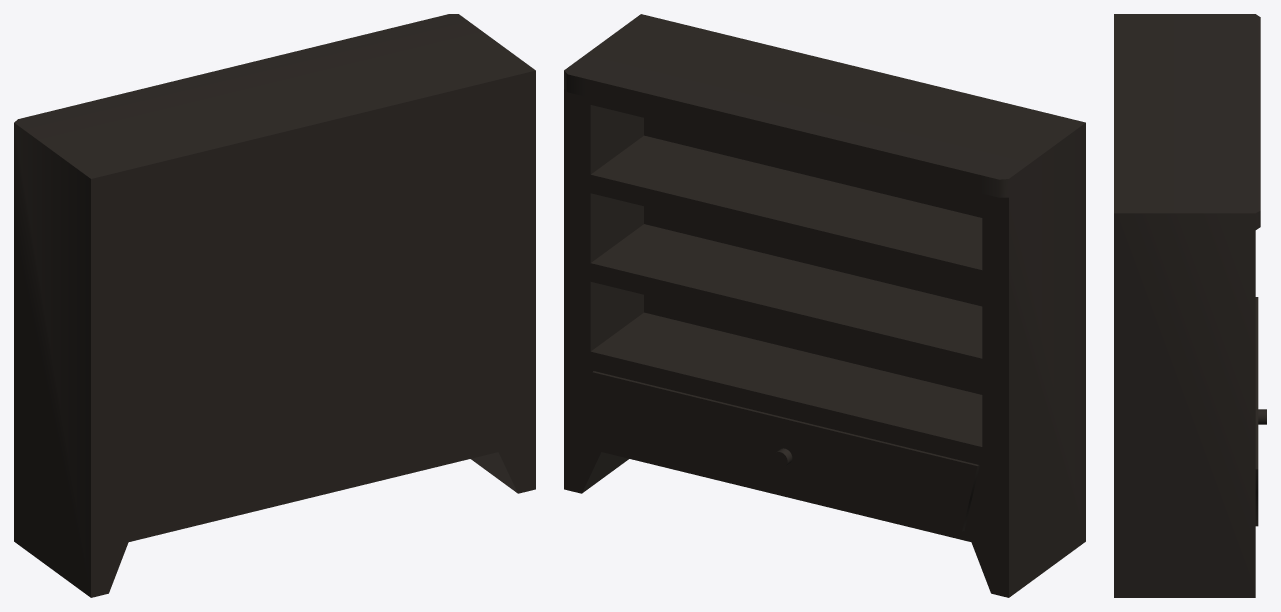
File: estanteria1.fbx
3 views of the same model, side by side, from view 1: azimuth 30°, elevation 25°; view 2: azimuth 150°, elevation 25°; view 3: azimuth 270°, elevation 25° (orthographic). The views are drawn at different scales.
Parts seen in each view (by area): view 1: estanteria1; view 2: estanteria1; view 3: estanteria1.
Part boxes in pixels (left/top/right/bottom): estanteria1: left=14, top=14, right=535, bottom=597; estanteria1: left=564, top=14, right=1085, bottom=597; estanteria1: left=1114, top=14, right=1266, bottom=597.
Bounding box in the file's own units: 260 × 234 × 84.36.
Materials: 1 (1 with a texture image).
